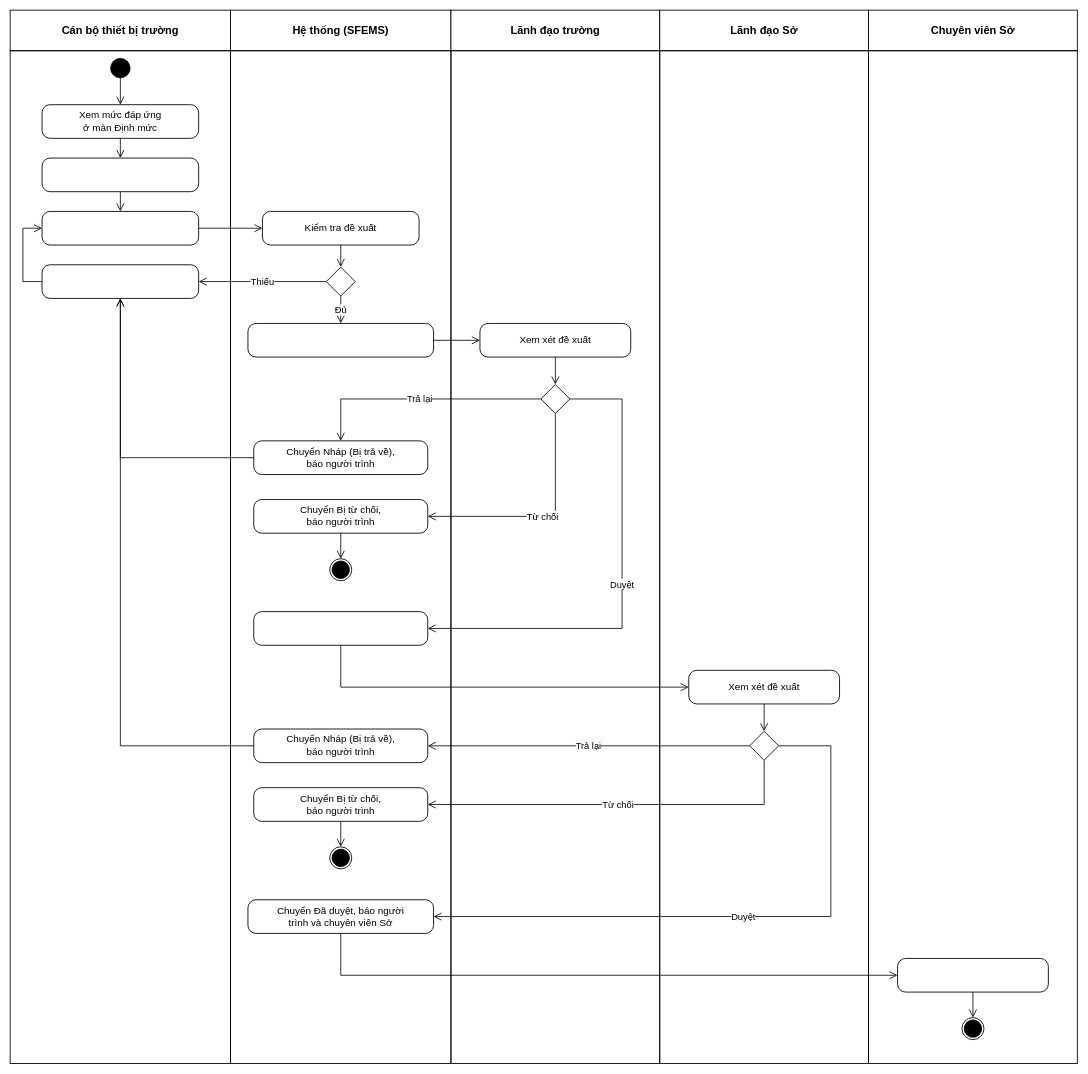
The diagram is 1088 pixels wide and 1074 high, and some of its shapes have lost their labels. Here are the shapes that lost their labels. From the top down, the centre of each, then its label:
At point (120, 174): "Lập đề xuất mua sắm".
At point (120, 228): "Trình duyệt".
At point (120, 281): "Sửa đề xuất".
At point (340, 340): "Cấp số phiếu, chuyển Chờ duyệt, báo lãnh đạo trường".
At point (340, 628): "Chuyển chờ Sở duyệt, báo lãnh đạo Sở".
At point (973, 975): "Đưa vào kế hoạch mua sắm (BF-02)".
